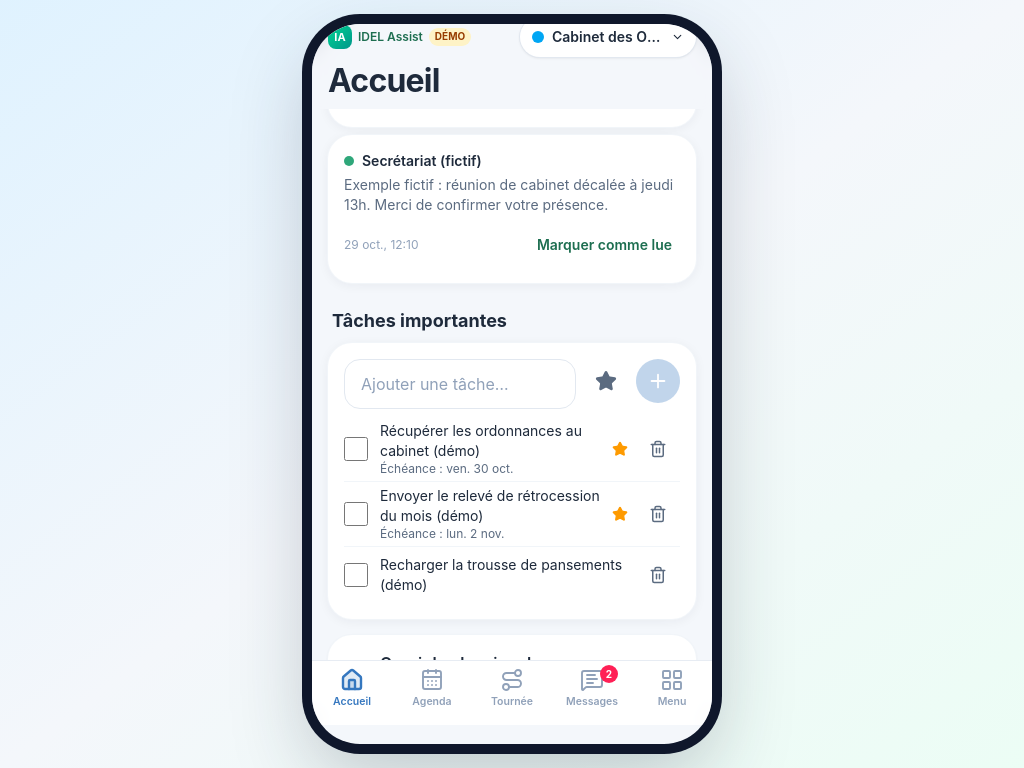
it: application › sauvegarde localement les modifications
(page scrolled)
Step 1. Type "Tâche de test" into the field named "Nouvelle tâche" → (460, 384), box [344,359,576,409]
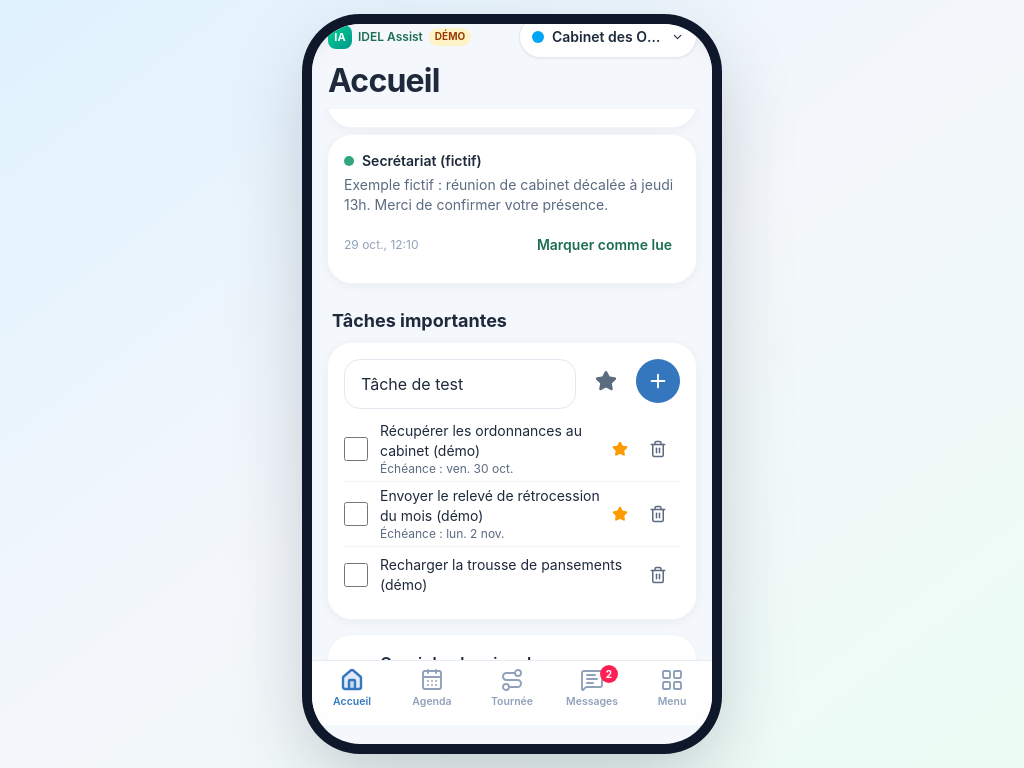
Step 2. Click the button named "Ajouter la tâche" → (658, 381), box [636,359,680,403]
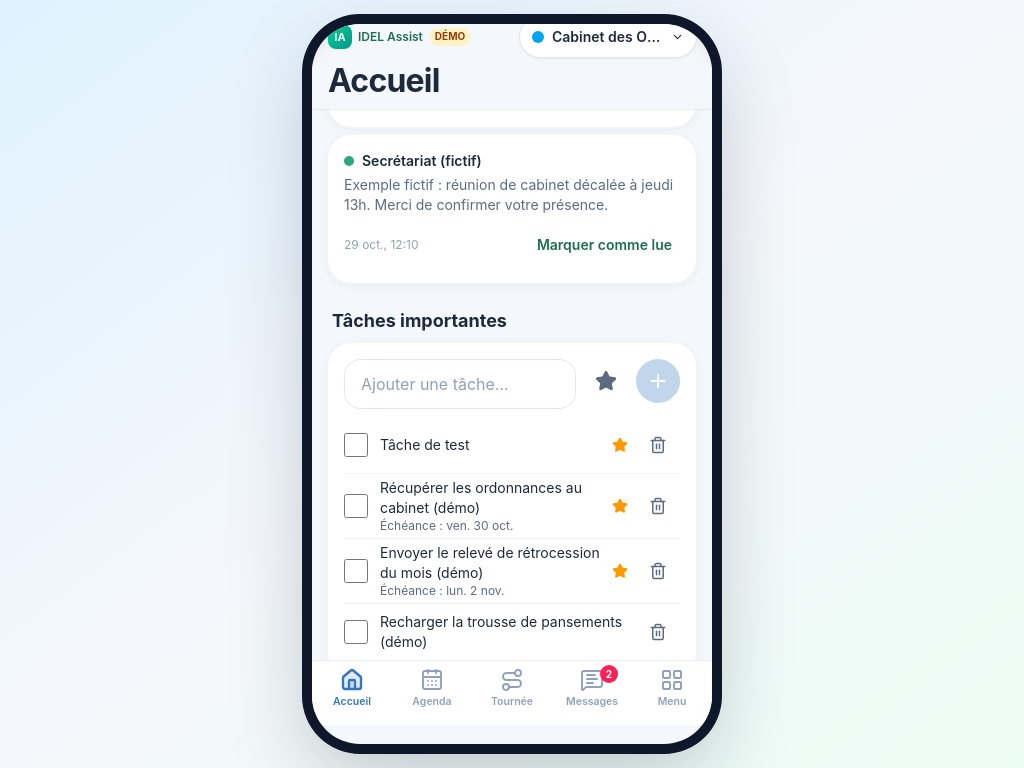
Result: the text "Tâche de test" is shown at [380,435,470,455]
